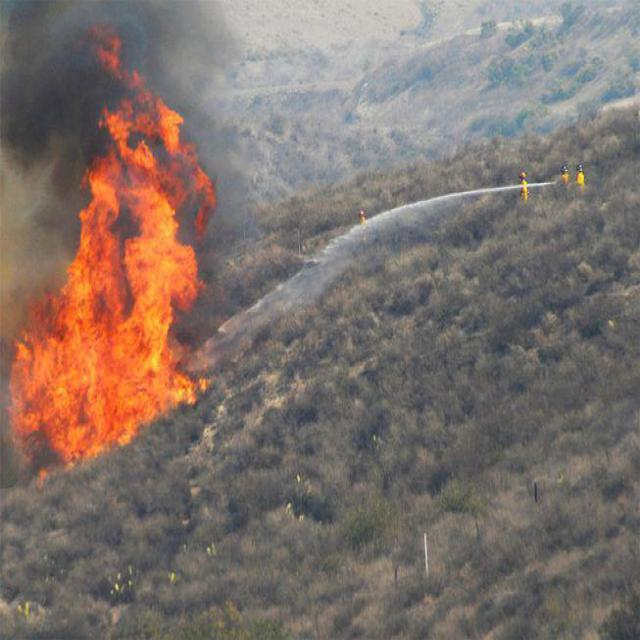Fire: (10, 41, 222, 463)
